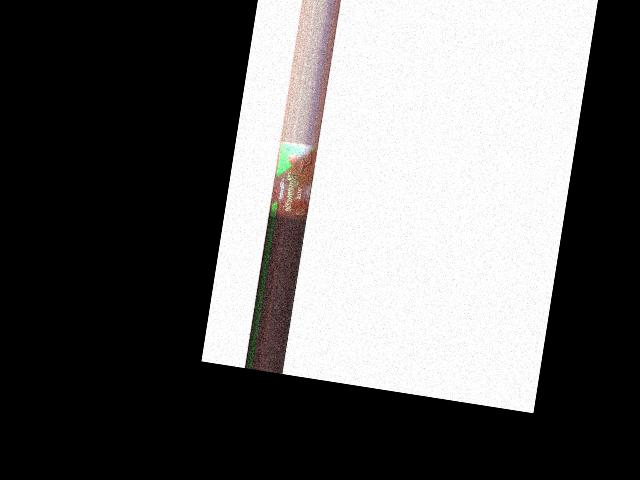chocolate: (269, 141, 317, 223)
